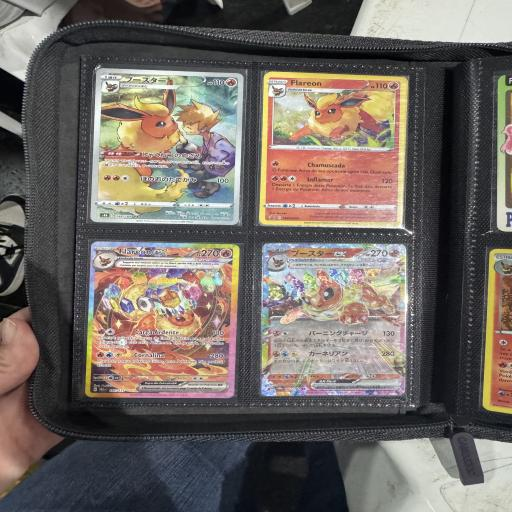card: (88, 65, 247, 231), (85, 240, 240, 399), (259, 70, 409, 229), (258, 243, 406, 397)
